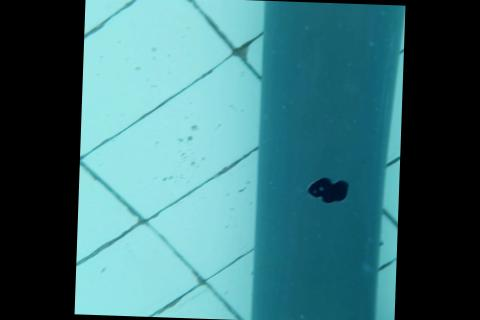kebocoran: (304, 174, 350, 204)
